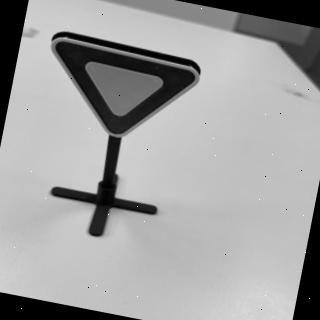sign_yield: (32, 28, 209, 158)
